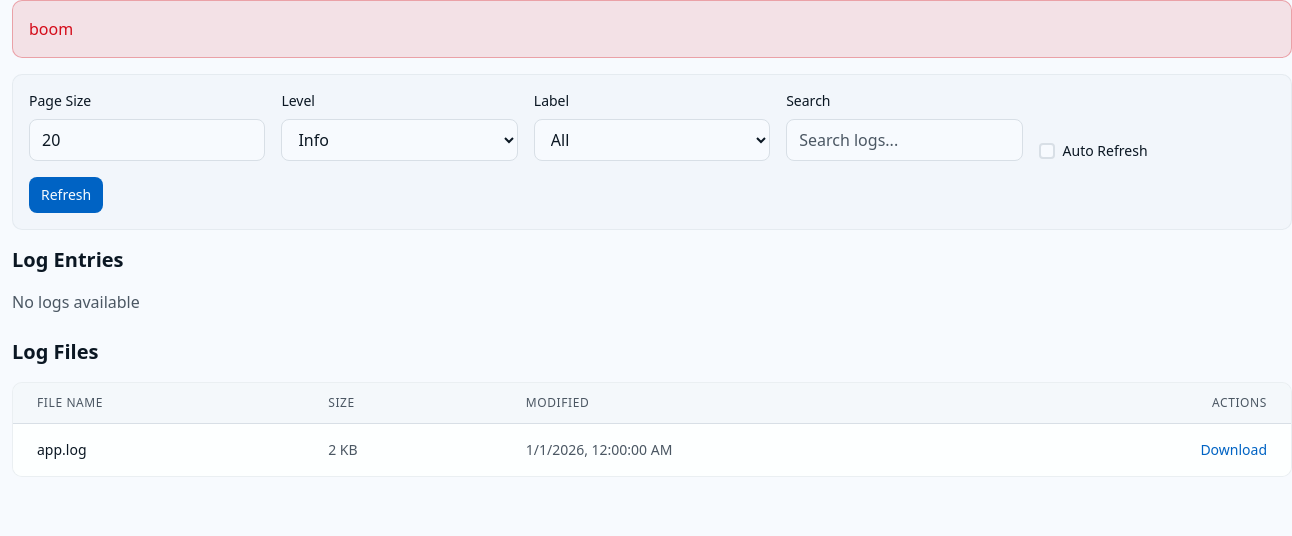
LogsTab › shows load errors, severity row styles, and log files
Expected: the text "boom" is shown, [29, 18, 73, 40]
Click the button "Refresh" at (66, 195), box [29, 177, 103, 213]
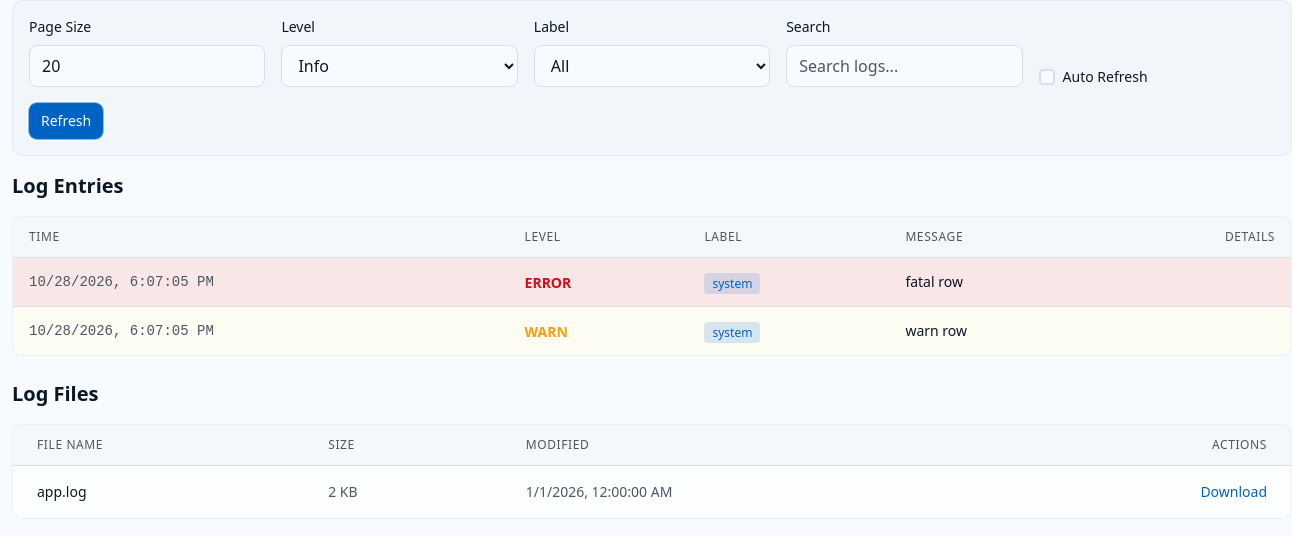
Expected: the text "app.log" is shown, [13, 466, 304, 518]
Now the text "fatal row" is shown, box [889, 258, 1103, 306]
Now the text "warn row" is shown, box [889, 306, 1103, 355]
